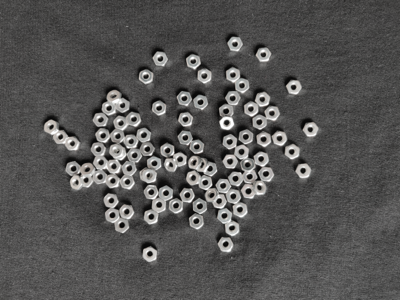nut: (295, 163, 312, 179), (303, 122, 319, 138), (285, 144, 301, 160), (254, 151, 270, 167), (233, 202, 249, 218), (272, 131, 288, 146), (265, 105, 280, 121), (255, 92, 271, 107), (256, 48, 272, 63), (259, 167, 275, 182), (239, 129, 254, 145), (228, 172, 244, 187), (226, 189, 242, 204), (218, 208, 233, 224), (193, 199, 208, 215), (186, 54, 201, 70), (144, 209, 159, 225), (143, 168, 158, 184), (140, 142, 156, 157), (137, 128, 152, 144), (120, 175, 136, 190), (119, 205, 135, 220), (115, 218, 130, 234), (70, 175, 85, 191), (65, 136, 81, 151), (53, 130, 69, 145), (44, 120, 60, 135), (143, 246, 157, 263), (287, 80, 302, 95), (257, 132, 272, 147), (235, 145, 250, 160), (241, 158, 256, 173), (235, 78, 250, 93), (228, 37, 243, 52), (220, 116, 235, 131), (223, 135, 238, 150), (216, 179, 231, 194), (169, 199, 184, 214), (190, 139, 205, 154), (178, 112, 193, 127), (193, 95, 208, 110), (177, 91, 192, 106), (159, 186, 174, 201), (139, 70, 154, 85), (153, 52, 168, 67), (144, 185, 159, 200), (147, 156, 162, 171), (127, 112, 142, 127), (128, 148, 143, 163), (105, 209, 120, 224), (104, 194, 119, 209), (107, 90, 122, 105), (114, 116, 129, 131), (96, 129, 111, 144), (92, 170, 107, 185), (66, 162, 81, 177), (245, 101, 259, 117), (226, 67, 240, 83), (218, 238, 234, 252), (200, 175, 214, 191), (190, 214, 204, 230), (180, 189, 196, 203), (178, 131, 194, 145), (198, 68, 212, 84), (153, 198, 167, 214), (93, 113, 109, 127), (253, 115, 267, 130), (252, 181, 267, 195), (226, 91, 241, 105), (223, 155, 238, 169), (226, 221, 240, 236), (213, 194, 227, 209), (206, 188, 220, 203), (204, 162, 218, 177), (196, 158, 210, 173), (187, 171, 201, 186), (164, 158, 179, 172), (161, 143, 175, 158), (153, 101, 167, 116), (124, 135, 139, 149), (122, 162, 137, 176), (111, 129, 125, 144), (110, 144, 125, 158), (107, 160, 122, 174), (106, 174, 120, 189), (92, 143, 107, 157), (81, 163, 96, 177), (117, 98, 130, 114), (242, 185, 256, 199), (102, 102, 116, 116), (94, 156, 108, 170), (243, 171, 258, 184), (174, 152, 187, 167), (220, 104, 234, 117), (189, 156, 202, 170), (140, 168, 153, 181), (114, 148, 127, 161), (81, 175, 94, 188)
